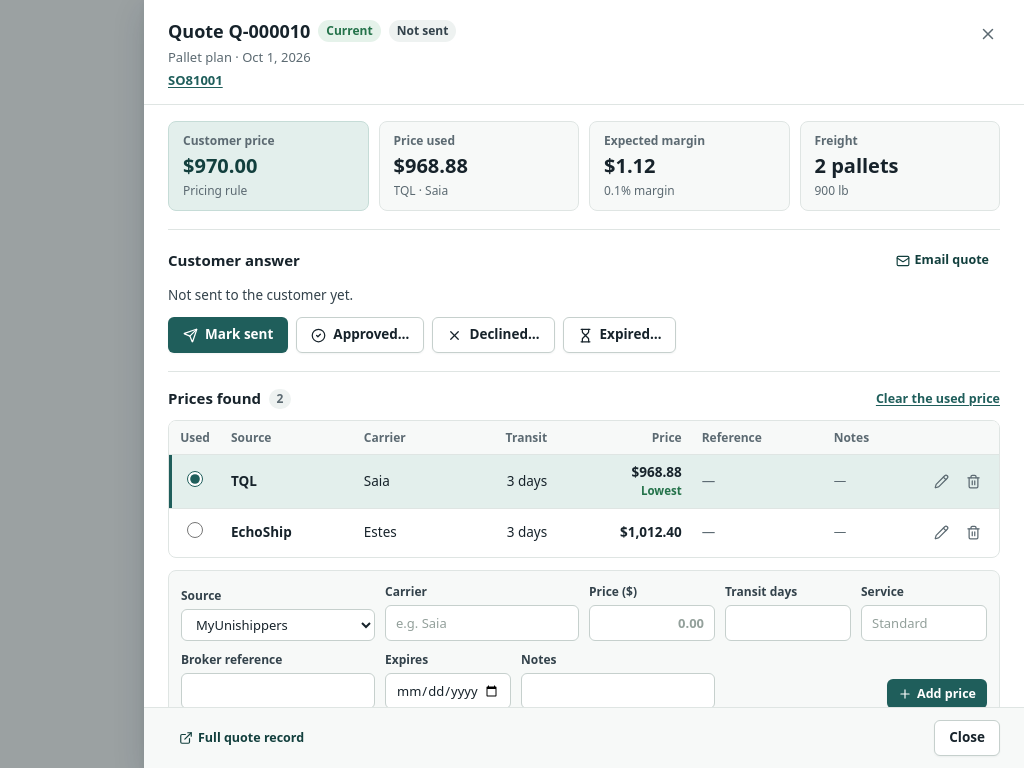
it: QuoteDetail › asks to mark the quote sent after the quote email is prepared
The width and height of the screenshot is (1024, 768).
Click the button "Email quote".
click(942, 261)  # box [885,246,1000,276]
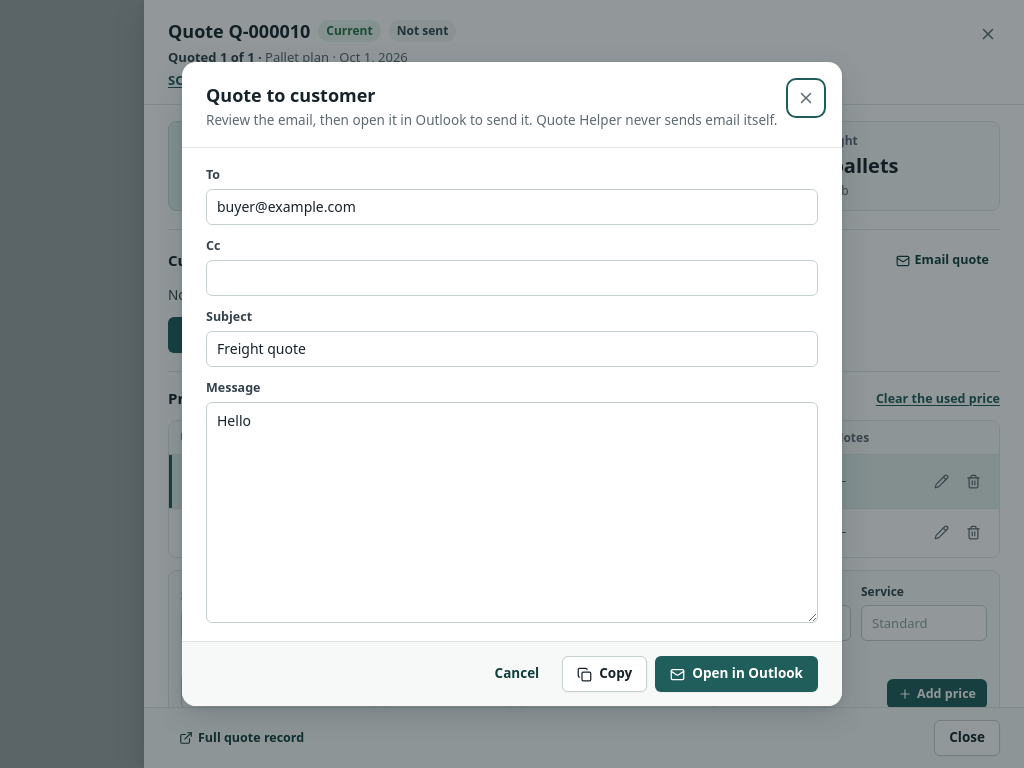
Click the button "Copy".
click(605, 674)  # box [562,656,647,692]
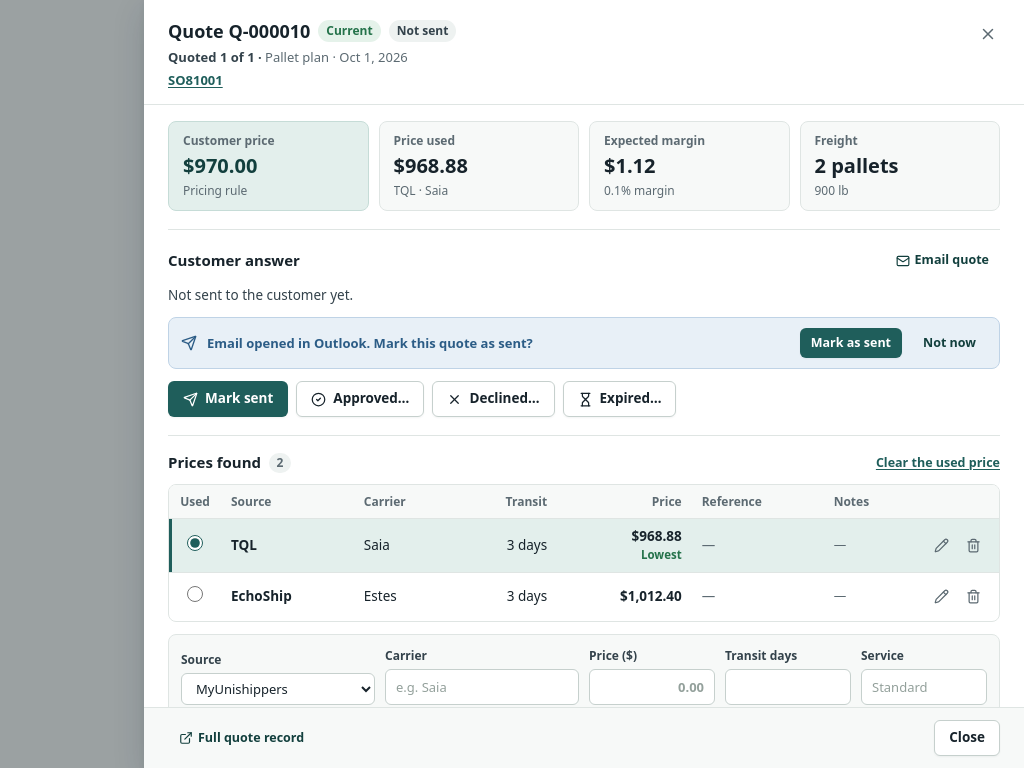
Click the button "Mark as sent".
click(851, 343)  # box [800,328,902,358]
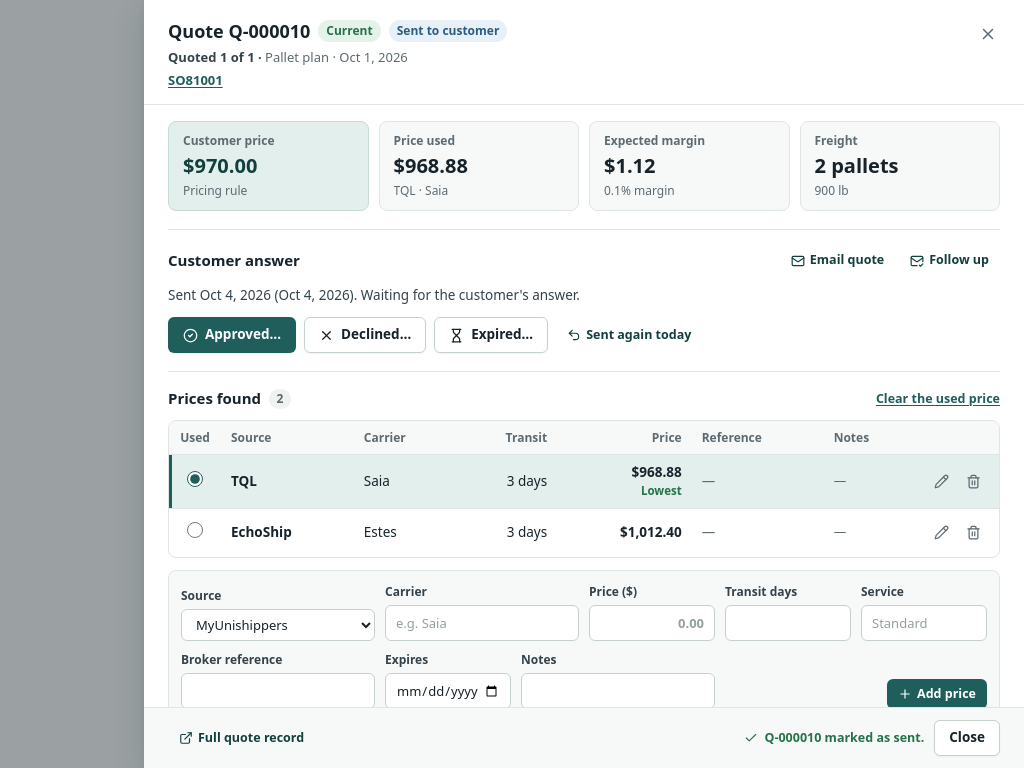
expect the text "Waiting for the customer's answer" is shown: met, box [168,286,580,304]
